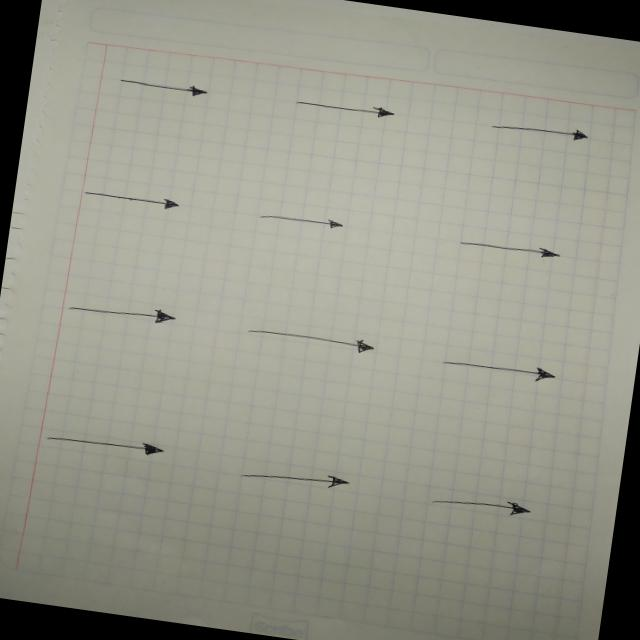arrow_line_right: (426, 344, 582, 399), (37, 418, 182, 474), (238, 315, 390, 367), (413, 478, 547, 534), (56, 286, 192, 338), (228, 454, 358, 503), (282, 89, 418, 133), (478, 108, 600, 154), (70, 178, 192, 220), (447, 228, 567, 270), (240, 199, 356, 240), (107, 66, 215, 105)
